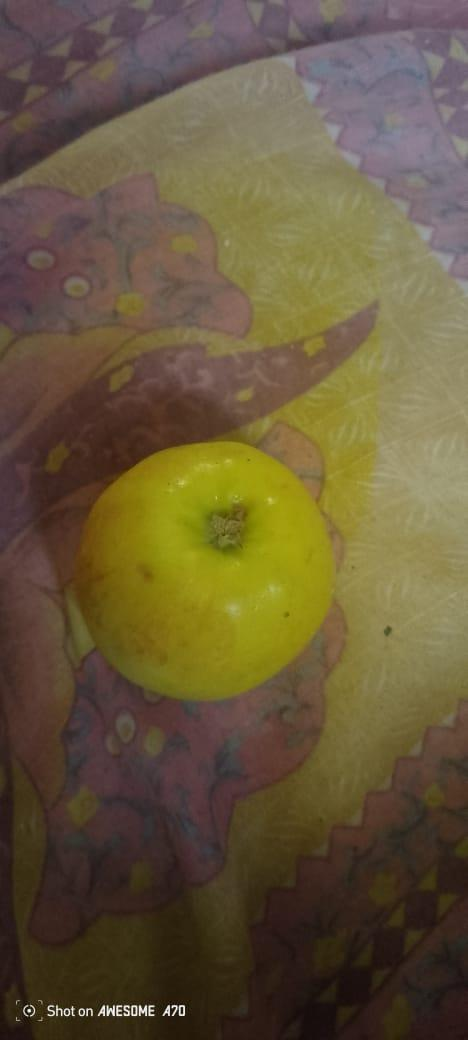non-mango: (73, 438, 340, 701)
